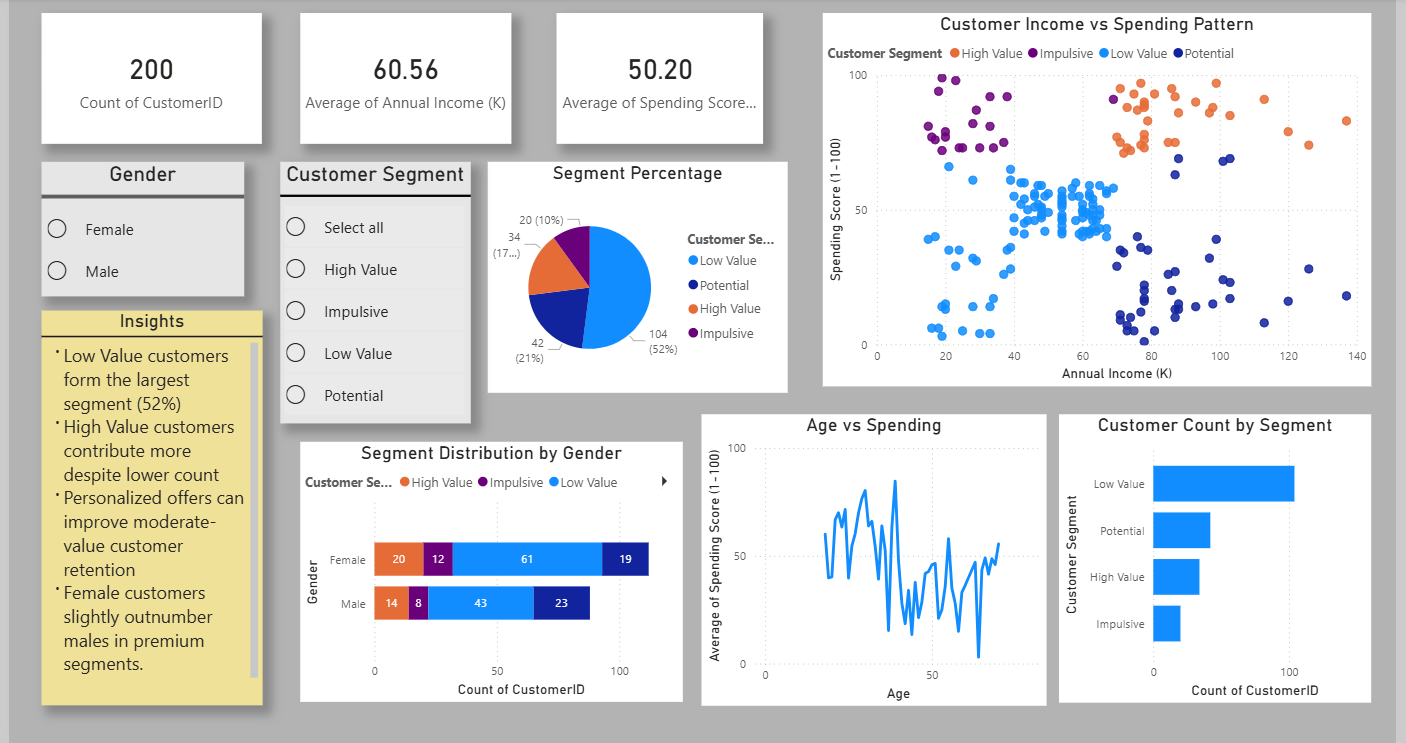

The dashboard page shown, as its layout file describes it:
{"tool":"powerbi","page":{"name":"Page 1","canvas":[1450,780],"ordinal":0},"visuals":[{"type":"scatterChart","title":"Customer Income vs Spending Pattern","fields":{"X":["Sum(Mall_Customers.Annual Income ($))"],"Y":["Mall_Customers.Spending Score (1-100)"],"Series":["Mall_Customers.Customer Segment"]},"box":[850.3,15.5,573.6,390.2],"z":0},{"type":"barChart","title":"Customer Count by Segment","fields":{"Category":["Mall_Customers.Customer Segment"],"Y":["CountNonNull(Mall_Customers.CustomerID)"]},"box":[1097.3,434.7,326.7,301.6],"z":1000},{"type":"pieChart","title":"Segment Percentage","fields":{"Category":["Mall_Customers.Customer Segment"],"Y":["CountNonNull(Mall_Customers.CustomerID)"]},"box":[500.6,171.2,313.7,241.8],"z":2000},{"type":"barChart","title":"Segment Distribution by Gender","fields":{"Series":["Mall_Customers.Customer Segment"],"Category":["Mall_Customers.Gender"],"Y":["CountNonNull(Mall_Customers.CustomerID)"]},"box":[304,464,400,272],"z":3000},{"type":"lineChart","title":"Age vs Spending","fields":{"Category":["Mall_Customers.Age"],"Y":["Avg(Mall_Customers.Spending Score (1-100))"]},"box":[724.4,435.3,360.6,304.7],"z":4000},{"type":"card","fields":{"Values":["Count(Mall_Customers.CustomerID)"]},"box":[34.2,15.5,230.1,136.8],"z":5000},{"type":"card","fields":{"Values":["Avg(Mall_Customers.Annual Income ($))"]},"box":[304.7,15.5,220.7,136.8],"z":6000},{"type":"card","fields":{"Values":["Avg(Mall_Customers.Spending Score (1-100))"]},"box":[572,15.5,216.1,136.8],"z":7000},{"type":"listSlicer","fields":{"Values":["Mall_Customers.Gender"]},"box":[34,171.2,211.7,141.2],"z":8000},{"type":"listSlicer","fields":{"Values":["Mall_Customers.Customer Segment"]},"box":[283.2,171.2,198.9,274],"z":9000},{"type":"textbox","title":"Insights","box":[34,326.7,231.3,413],"z":9001}]}

Visuals, with their boxes in screenshot pixels (x1, y1, x2, y2), scaled from the page's 1450x780 canvas onto the 1406x743 screenshot:
"Customer Income vs Spending Pattern" scatterChart: (824,15,1381,386)
"Customer Count by Segment" barChart: (1064,414,1381,701)
"Segment Percentage" pieChart: (485,163,790,393)
"Segment Distribution by Gender" barChart: (295,442,683,701)
"Age vs Spending" lineChart: (702,415,1052,705)
card - Count(Mall_Customers.CustomerID): (33,15,256,145)
card - Avg(Mall_Customers.Annual Income ($)): (295,15,509,145)
card - Avg(Mall_Customers.Spending Score (1-100)): (555,15,764,145)
listSlicer - Mall_Customers.Gender: (33,163,238,298)
listSlicer - Mall_Customers.Customer Segment: (275,163,467,424)
"Insights" textbox: (33,311,257,705)
